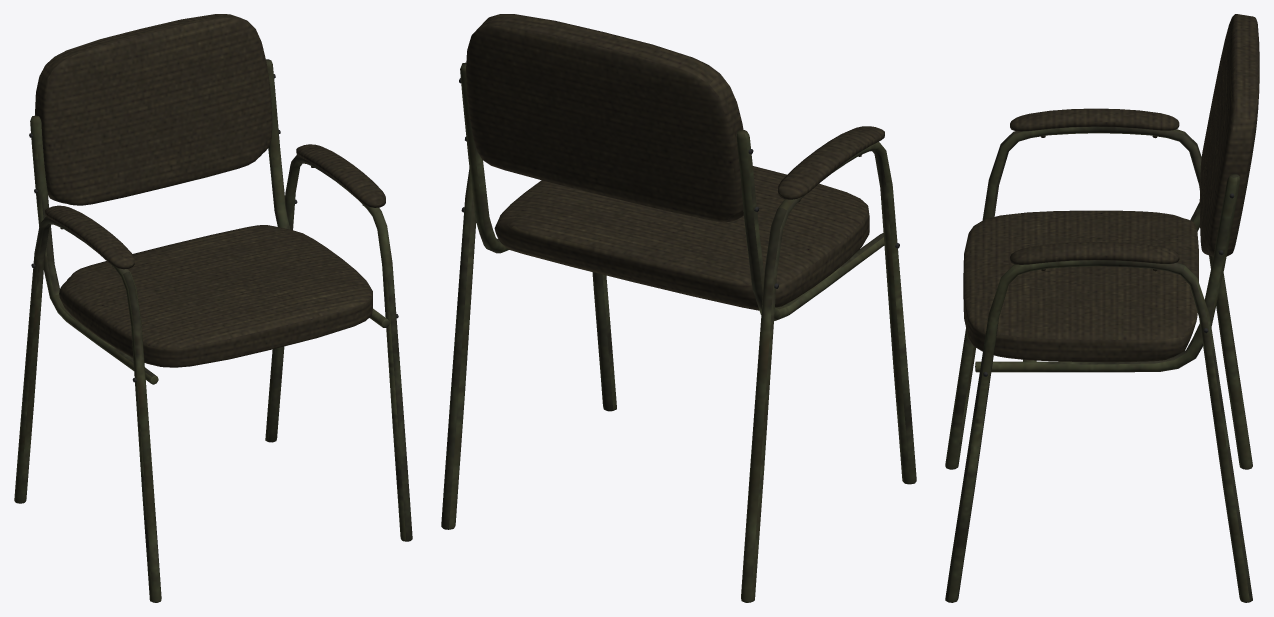
File: chair_2.obj
The picture shows the model from 3 angles, left to right: view 1: azimuth 30°, elevation 25°; view 2: azimuth 150°, elevation 25°; view 3: azimuth 270°, elevation 25°; orthographic projection. The views are drawn at different scales.
Parts seen in each view (by area): view 1: chair_2; view 2: chair_2; view 3: chair_2.
Boxes of the visible parts, x1=… form: chair_2: x1=14, y1=14, x2=412, y2=602; chair_2: x1=441, y1=14, x2=916, y2=602; chair_2: x1=945, y1=14, x2=1259, y2=602.
Bounding box in the file's own units: 0.7744 × 1.19 × 0.7036.
